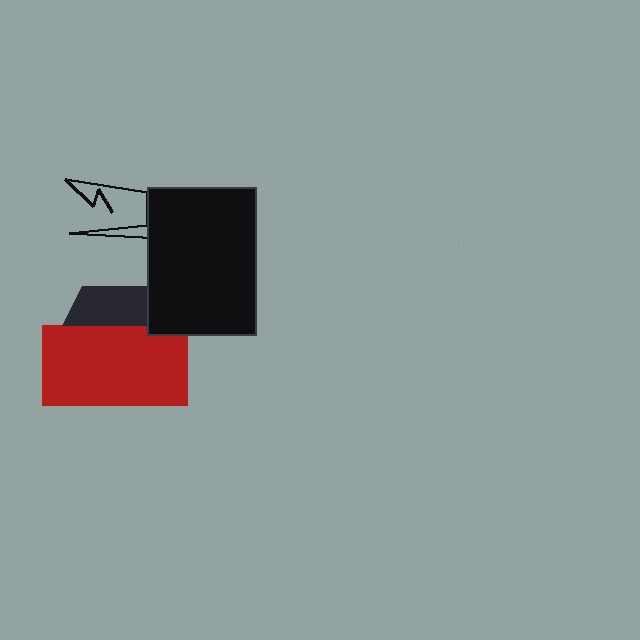crocodile_crack: (49, 158, 190, 238)
phone: (147, 187, 365, 335)
vehicle: (42, 286, 187, 405)
